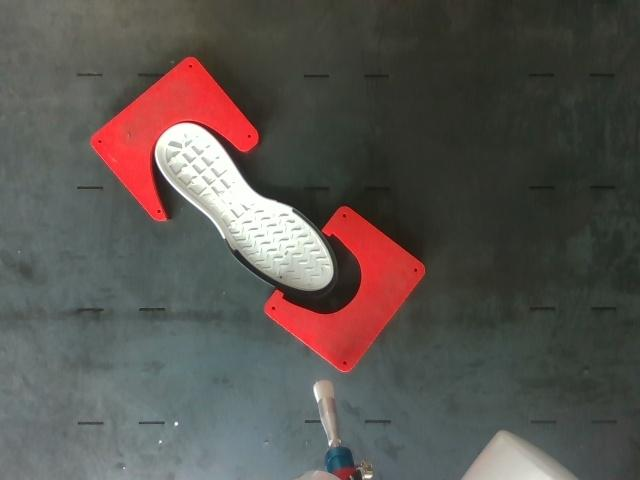shoes: (155, 122, 337, 293)
